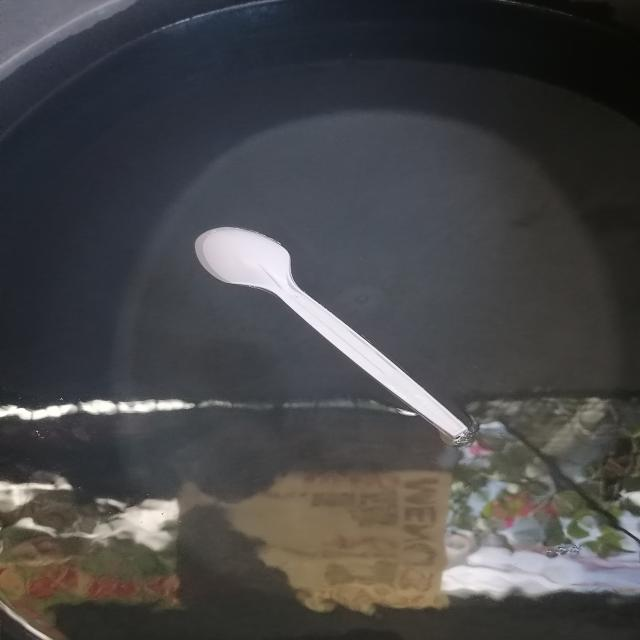Plastic Spoon: (175, 205, 495, 454)
